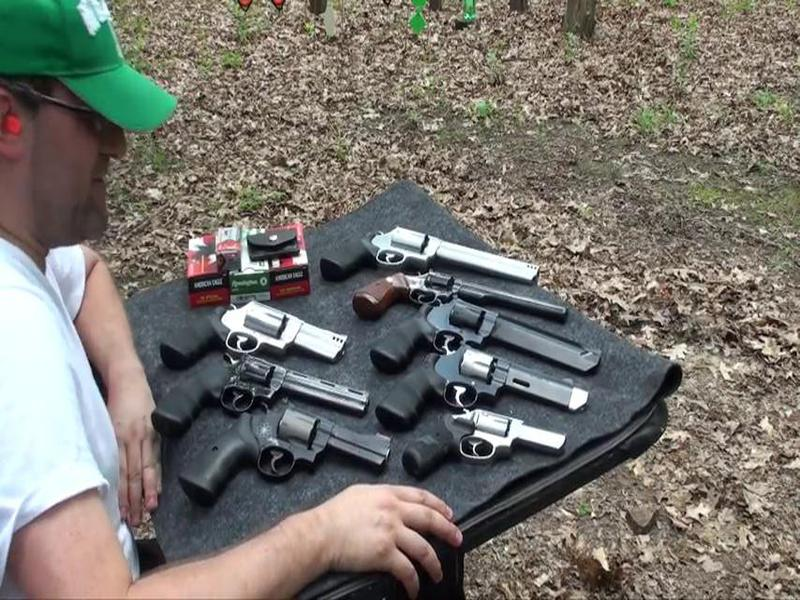Revolver: (377, 290, 606, 374)
